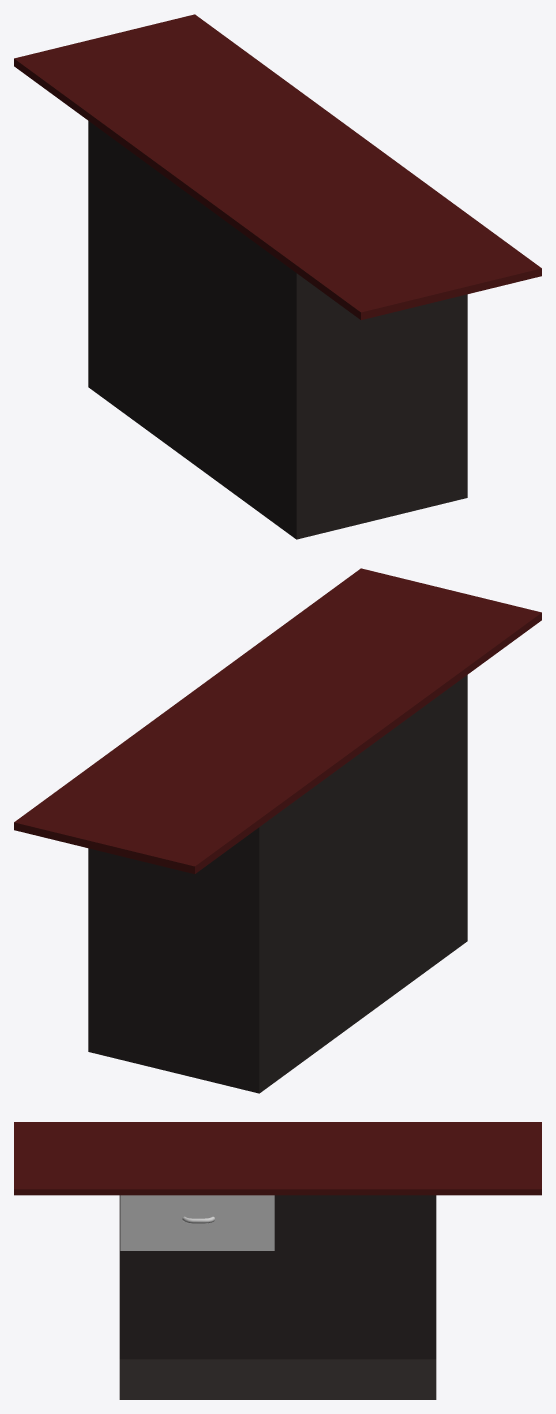
The model's file is DeskWithCabinet.fbx.
3 renders of one model, top to bottom at view 1: azimuth 30°, elevation 25°; view 2: azimuth 150°, elevation 25°; view 3: azimuth 270°, elevation 25°, orthographic. The views are drawn at different scales.
Visible parts, largest first — view 1: 环体.001; view 2: 环体.001; view 3: 环体.001.
Part boxes in pixels (x1,y1,x2,y2): 环体.001: (14, 14, 541, 539); 环体.001: (14, 568, 541, 1093); 环体.001: (14, 1122, 541, 1399).
Bounding box in the file's own units: 394 × 1292 × 574.
